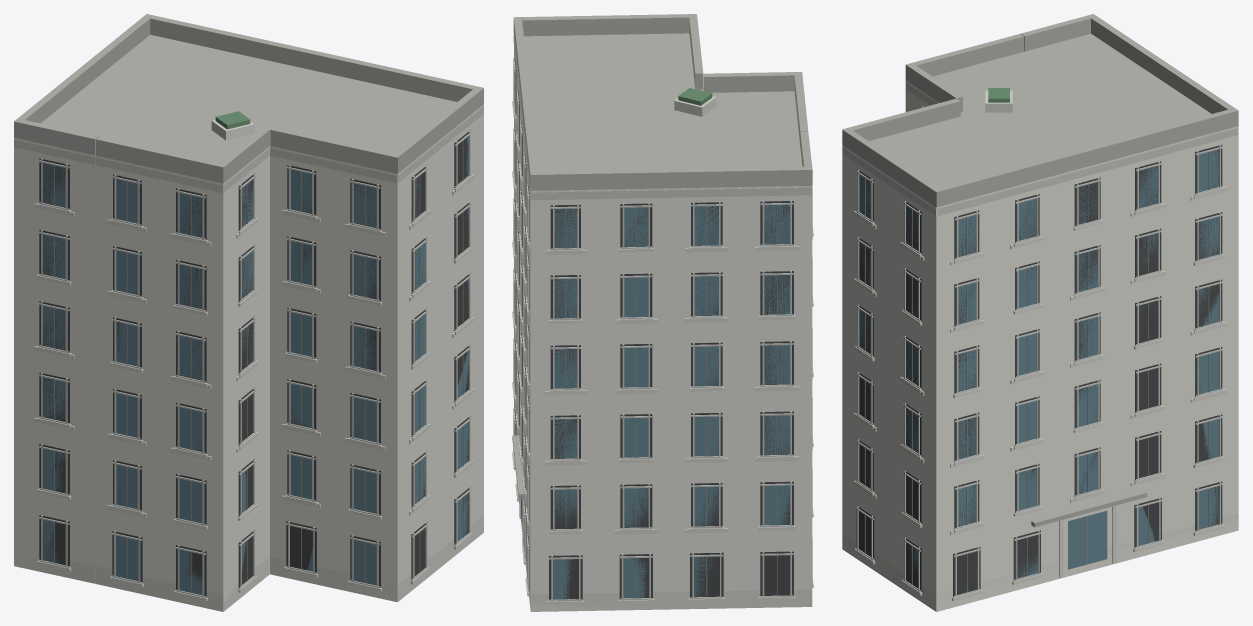
Rendered from cop_residencial_compacto_03__way_488128350.fbx.
3 renders of one model, left to right at view 1: azimuth 30°, elevation 25°; view 2: azimuth 150°, elevation 25°; view 3: azimuth 270°, elevation 25°, orthographic. The views are drawn at different scales.
Visible parts, largest first — view 1: cop_residencial_compacto_03__way_488128350_wall, cop_residencial_compacto_03__way_488128350_roof, cop_residencial_compacto_03__way_488128350_glass, cop_residencial_compacto_03__way_488128350_shadow, cop_residencial_compacto_03__way_488128350_trim, cop_residencial_compacto_03__way_488128350_stone, cop_residencial_compacto_03__way_488128350_metal; view 2: cop_residencial_compacto_03__way_488128350_wall, cop_residencial_compacto_03__way_488128350_roof, cop_residencial_compacto_03__way_488128350_glass, cop_residencial_compacto_03__way_488128350_shadow, cop_residencial_compacto_03__way_488128350_trim, cop_residencial_compacto_03__way_488128350_stone, cop_residencial_compacto_03__way_488128350_metal, cop_residencial_compacto_03__way_488128350_plants; view 3: cop_residencial_compacto_03__way_488128350_wall, cop_residencial_compacto_03__way_488128350_roof, cop_residencial_compacto_03__way_488128350_shadow, cop_residencial_compacto_03__way_488128350_glass, cop_residencial_compacto_03__way_488128350_trim, cop_residencial_compacto_03__way_488128350_stone, cop_residencial_compacto_03__way_488128350_metal.
Part boxes in pixels (x1,y1,x2,y2): cop_residencial_compacto_03__way_488128350_wall: (14, 104, 483, 611); cop_residencial_compacto_03__way_488128350_roof: (14, 14, 483, 183); cop_residencial_compacto_03__way_488128350_glass: (42, 136, 468, 595); cop_residencial_compacto_03__way_488128350_shadow: (39, 130, 470, 597); cop_residencial_compacto_03__way_488128350_trim: (14, 106, 483, 597); cop_residencial_compacto_03__way_488128350_stone: (16, 119, 483, 611); cop_residencial_compacto_03__way_488128350_metal: (54, 140, 463, 592); cop_residencial_compacto_03__way_488128350_wall: (514, 46, 812, 611); cop_residencial_compacto_03__way_488128350_roof: (512, 14, 812, 498); cop_residencial_compacto_03__way_488128350_glass: (521, 204, 790, 599); cop_residencial_compacto_03__way_488128350_shadow: (514, 57, 793, 600); cop_residencial_compacto_03__way_488128350_trim: (513, 35, 812, 601); cop_residencial_compacto_03__way_488128350_stone: (512, 96, 813, 611); cop_residencial_compacto_03__way_488128350_metal: (514, 72, 777, 599); cop_residencial_compacto_03__way_488128350_plants: (678, 88, 712, 105); cop_residencial_compacto_03__way_488128350_wall: (842, 80, 1238, 611); cop_residencial_compacto_03__way_488128350_roof: (842, 14, 1238, 527); cop_residencial_compacto_03__way_488128350_shadow: (856, 105, 1222, 597); cop_residencial_compacto_03__way_488128350_glass: (859, 149, 1219, 591); cop_residencial_compacto_03__way_488128350_trim: (842, 82, 1238, 597); cop_residencial_compacto_03__way_488128350_stone: (842, 90, 1238, 611); cop_residencial_compacto_03__way_488128350_metal: (864, 152, 1209, 592).
Size of the model in its own units: 1701 by 1869 by 1599.
